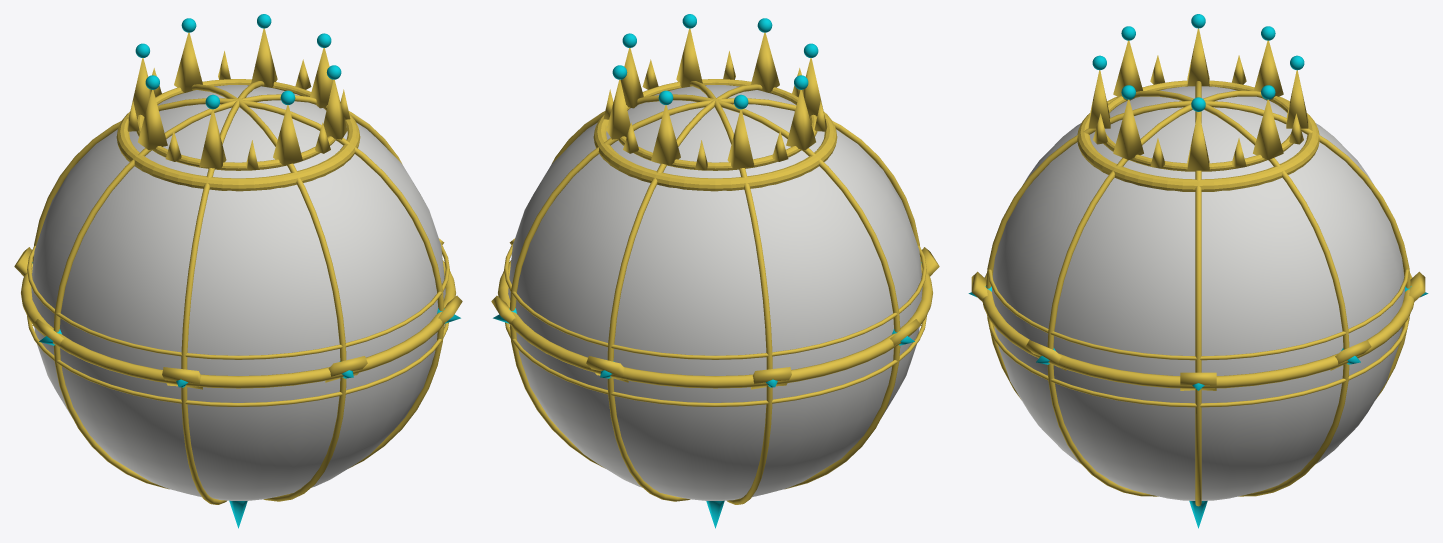
The model's file is AionMagnum.fbx.
The picture shows the model from 3 angles, left to right: view 1: azimuth 30°, elevation 25°; view 2: azimuth 150°, elevation 25°; view 3: azimuth 270°, elevation 25°; orthographic projection.
Visible parts, largest first — view 1: God_Orb_Magnum_Relief; view 2: God_Orb_Magnum_Relief; view 3: God_Orb_Magnum_Relief.
Part boxes in pixels (box(x1,y1,x2,y2)): God_Orb_Magnum_Relief: box(14, 14, 462, 528); God_Orb_Magnum_Relief: box(491, 14, 939, 528); God_Orb_Magnum_Relief: box(968, 14, 1428, 528).
Bounding box in the file's own units: 443 × 502 × 443.
